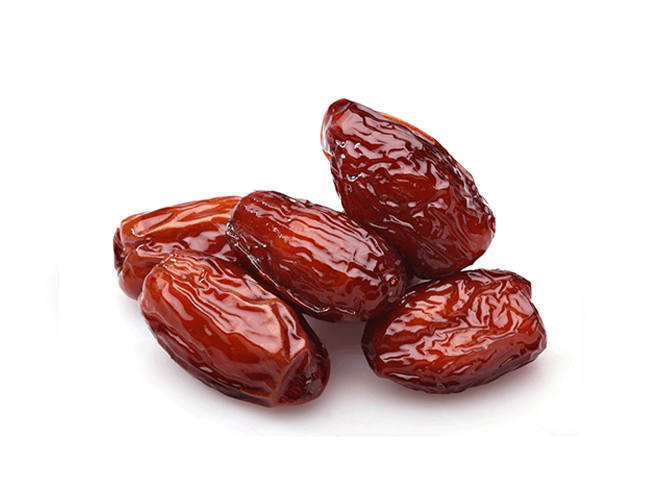hurmaa: (136, 240, 329, 409)
